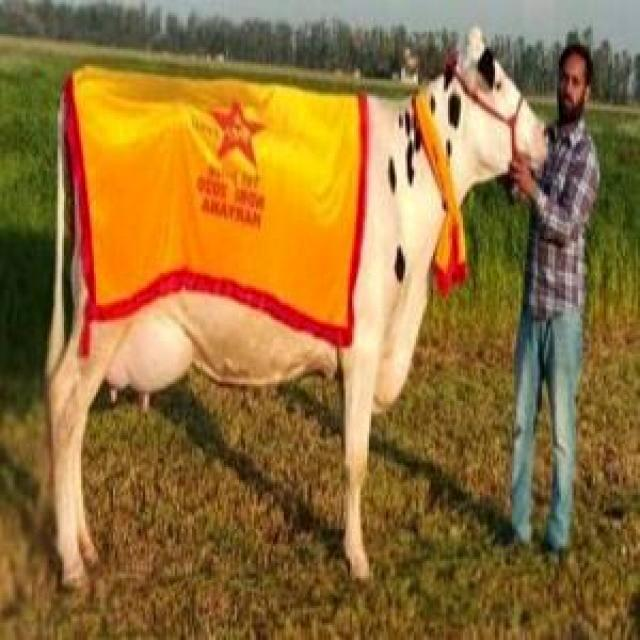COW: (49, 31, 545, 581)
